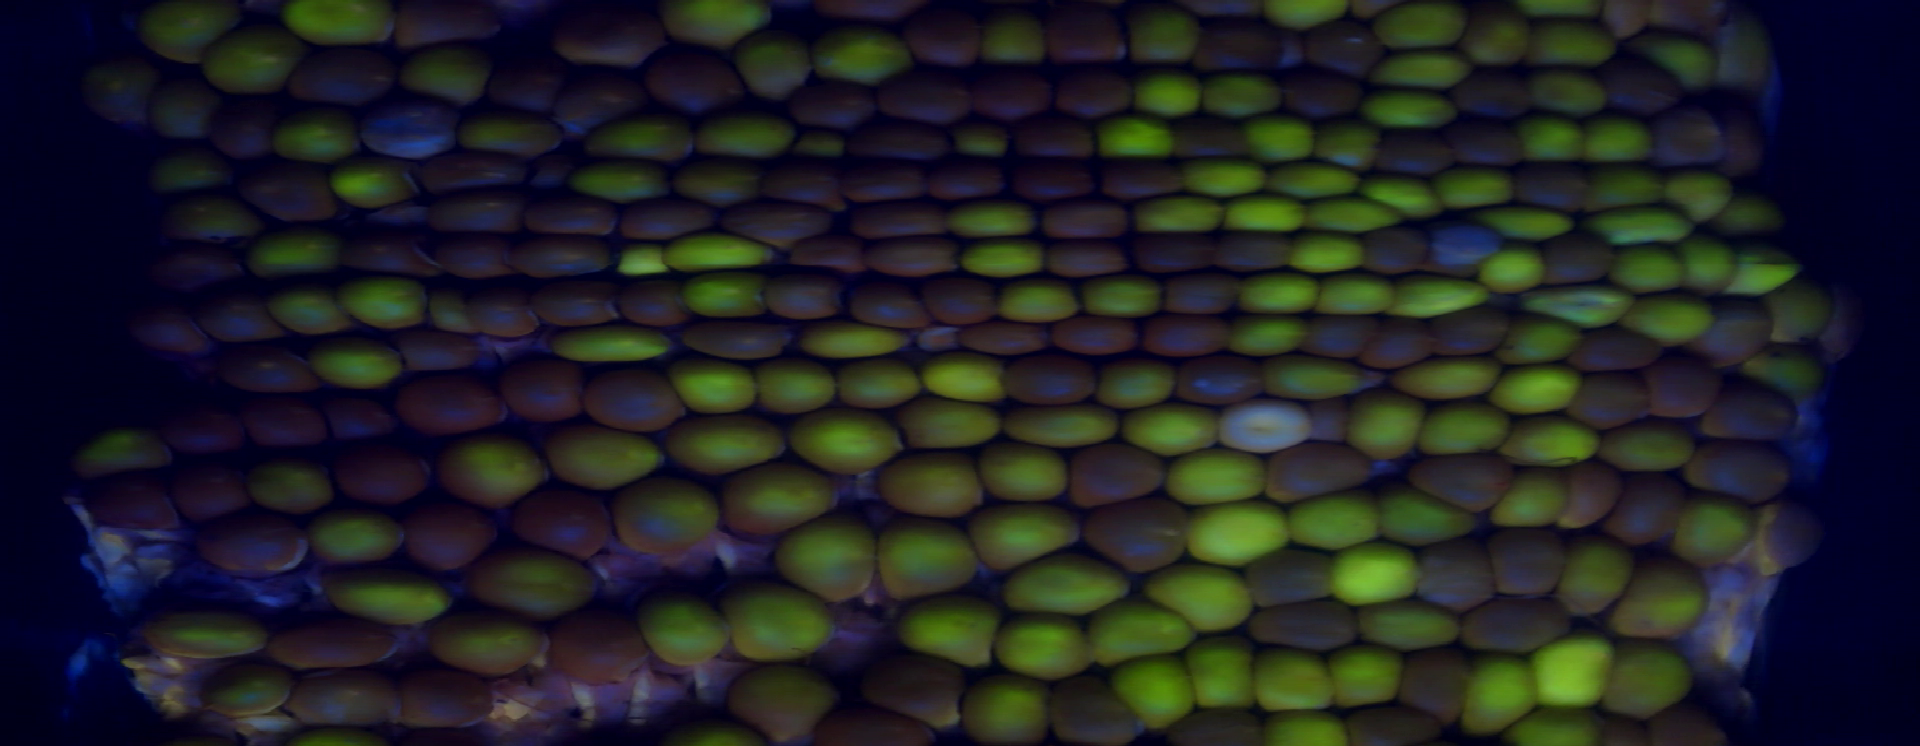fluorescent: (476, 546, 605, 615), (729, 590, 839, 669), (725, 470, 831, 546), (782, 518, 878, 601), (440, 436, 546, 507), (731, 673, 838, 744), (878, 521, 978, 594), (618, 484, 724, 552), (432, 612, 556, 670), (1000, 560, 1131, 612), (146, 610, 271, 665), (1616, 567, 1708, 641), (791, 414, 905, 473), (893, 601, 996, 665), (1116, 641, 1184, 736), (666, 415, 787, 469), (1150, 567, 1256, 628), (955, 680, 1053, 746), (1087, 610, 1195, 670), (998, 614, 1101, 676), (1538, 631, 1615, 714), (329, 570, 443, 625), (550, 426, 658, 483), (1611, 642, 1690, 718), (208, 31, 301, 94), (402, 47, 495, 110), (880, 457, 987, 512), (141, 1, 229, 66), (1190, 503, 1291, 560), (307, 508, 405, 566), (1524, 13, 1624, 70), (1674, 505, 1760, 570), (1381, 488, 1476, 546), (1332, 548, 1424, 608), (664, 1, 779, 49), (1166, 450, 1267, 503), (1281, 499, 1387, 549), (1393, 353, 1500, 403), (647, 603, 729, 668), (1251, 650, 1338, 712), (977, 514, 1078, 567), (1460, 657, 1533, 728), (324, 156, 419, 211), (1326, 646, 1404, 710), (264, 285, 356, 341), (305, 343, 405, 393), (552, 323, 670, 366), (1622, 296, 1720, 348), (1381, 274, 1495, 318), (666, 359, 757, 414), (191, 668, 293, 717), (571, 163, 683, 207), (1604, 421, 1698, 473), (735, 36, 809, 100), (667, 234, 771, 281), (1349, 608, 1466, 649), (1528, 283, 1635, 328), (1127, 1, 1194, 72), (1353, 391, 1428, 454), (1011, 405, 1119, 450), (988, 450, 1067, 510), (1124, 405, 1224, 452), (1766, 285, 1836, 352), (287, 1, 388, 47), (1564, 535, 1621, 614), (1269, 359, 1367, 404), (833, 356, 924, 404), (457, 111, 553, 157), (980, 1, 1044, 69), (1195, 642, 1259, 710), (949, 200, 1051, 243), (1428, 401, 1509, 454), (355, 273, 426, 334), (1370, 5, 1466, 50), (583, 124, 693, 163), (809, 34, 898, 83), (705, 111, 795, 159), (1266, 163, 1362, 207), (901, 408, 1002, 450), (1485, 474, 1569, 524), (1716, 17, 1774, 88), (1095, 111, 1176, 163), (1204, 72, 1284, 124), (1498, 365, 1576, 418), (1749, 350, 1831, 401), (269, 118, 362, 162), (804, 325, 912, 363), (247, 234, 347, 274), (247, 465, 333, 512), (924, 356, 1008, 404), (147, 77, 207, 143), (1609, 243, 1690, 292), (77, 431, 169, 474), (1243, 267, 1325, 315), (1298, 195, 1404, 232), (1643, 34, 1716, 88), (1378, 50, 1466, 94), (1531, 73, 1616, 119), (757, 366, 838, 414), (144, 156, 231, 200), (1431, 169, 1521, 212), (176, 200, 260, 245), (1515, 428, 1602, 470), (1522, 114, 1588, 170), (1315, 277, 1395, 323), (1597, 205, 1693, 243), (1102, 363, 1178, 410), (1728, 249, 1804, 296), (960, 245, 1052, 284), (1131, 197, 1226, 235), (1249, 118, 1316, 170), (680, 274, 767, 315), (1002, 281, 1087, 321), (1085, 277, 1163, 321), (1226, 314, 1300, 359), (1311, 118, 1374, 171), (1667, 173, 1735, 222), (1131, 73, 1207, 118), (1469, 7, 1529, 62), (1291, 232, 1367, 272), (1367, 176, 1436, 218), (1505, 322, 1576, 363), (1487, 247, 1549, 293), (1220, 203, 1304, 236), (1720, 200, 1785, 243), (1587, 124, 1652, 167), (419, 283, 473, 334), (1484, 208, 1567, 241), (1188, 160, 1270, 194), (1596, 170, 1664, 208), (680, 167, 756, 201), (1260, 715, 1344, 746), (950, 119, 1007, 163), (97, 65, 156, 107), (1684, 243, 1731, 293), (1515, 714, 1584, 746), (1260, 1, 1333, 31), (618, 243, 671, 279), (795, 126, 842, 162), (293, 729, 389, 746), (1520, 1, 1605, 20)
nonfluorescent: (193, 508, 311, 581), (1036, 673, 1153, 744), (512, 483, 618, 559), (546, 1, 669, 66), (267, 608, 400, 665), (283, 48, 402, 111), (550, 604, 647, 680), (639, 34, 733, 111), (1250, 595, 1363, 655), (867, 652, 964, 722), (1266, 442, 1382, 500), (1084, 505, 1193, 566), (1460, 594, 1573, 652), (1491, 524, 1569, 605), (584, 372, 677, 439), (1059, 441, 1163, 500), (87, 477, 180, 541), (495, 353, 577, 425), (1412, 535, 1494, 608), (1687, 439, 1785, 497), (1608, 477, 1687, 548), (400, 374, 502, 429), (1594, 55, 1684, 118), (1404, 459, 1505, 514), (400, 669, 497, 725), (809, 703, 936, 746), (124, 298, 207, 363), (1245, 543, 1333, 604), (409, 499, 485, 570), (171, 457, 257, 518), (214, 345, 321, 394), (878, 72, 970, 129), (1722, 379, 1798, 446), (1193, 18, 1284, 73), (787, 70, 878, 125), (239, 394, 329, 450), (389, 1, 493, 49), (321, 394, 400, 457), (362, 111, 460, 162), (328, 450, 425, 500), (1043, 10, 1129, 66), (162, 398, 245, 456), (900, 10, 984, 66), (1000, 356, 1097, 405), (1653, 349, 1714, 426), (1398, 648, 1469, 714), (760, 159, 842, 214), (613, 197, 708, 245), (509, 241, 616, 283), (250, 174, 336, 225), (722, 201, 831, 241), (1424, 305, 1500, 363), (684, 318, 789, 360), (1097, 153, 1188, 201), (1156, 707, 1266, 746), (201, 292, 280, 345), (1288, 26, 1380, 72), (847, 276, 928, 328), (970, 62, 1047, 118), (484, 50, 557, 108), (433, 190, 527, 235), (1347, 701, 1440, 746), (212, 94, 274, 162), (1043, 203, 1129, 252), (1171, 355, 1262, 401), (467, 285, 538, 343), (842, 125, 956, 160), (1708, 303, 1769, 367), (1457, 69, 1532, 121), (1571, 330, 1653, 377), (1360, 222, 1431, 277), (1284, 66, 1360, 118), (759, 273, 845, 318), (840, 156, 926, 201), (862, 239, 964, 277), (536, 281, 620, 326), (1716, 100, 1763, 179), (396, 331, 478, 376), (1007, 162, 1101, 201), (1512, 163, 1591, 209), (1450, 127, 1528, 174), (1573, 380, 1652, 426), (1049, 317, 1145, 355), (1131, 232, 1218, 273), (1659, 98, 1712, 167), (1382, 127, 1456, 176), (958, 318, 1052, 356), (1367, 318, 1431, 374), (1560, 454, 1607, 530), (527, 194, 611, 235), (1644, 704, 1729, 746), (167, 246, 236, 296), (1540, 238, 1611, 287), (921, 162, 1002, 205), (1644, 1, 1733, 40), (353, 238, 442, 276), (1305, 307, 1367, 363), (1149, 318, 1236, 356), (1002, 118, 1097, 152), (1051, 76, 1129, 118), (1218, 235, 1297, 277), (1176, 118, 1249, 162), (1164, 276, 1242, 317), (782, 236, 869, 273), (1042, 243, 1135, 277), (924, 279, 988, 328), (424, 165, 529, 195), (563, 86, 638, 126), (431, 238, 511, 274), (839, 209, 947, 236), (360, 203, 433, 243), (620, 287, 684, 328), (1598, 1, 1651, 47), (1311, 401, 1353, 454), (1598, 710, 1652, 746)
